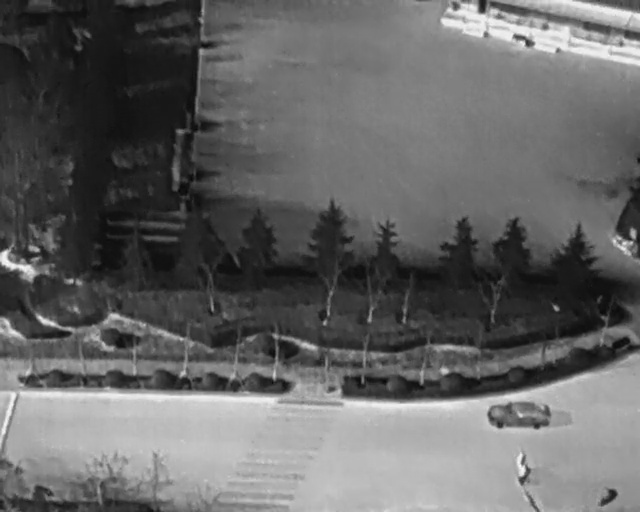Car: (488, 400, 552, 430)
